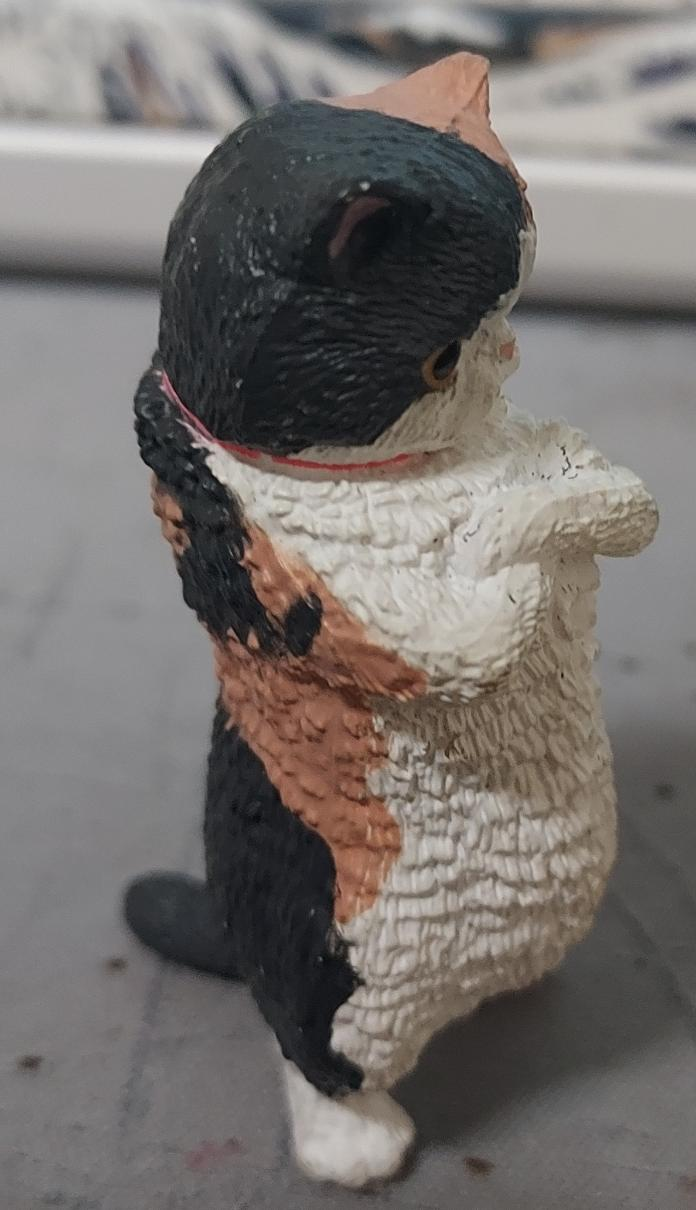cat: (1, 0, 696, 1210)
